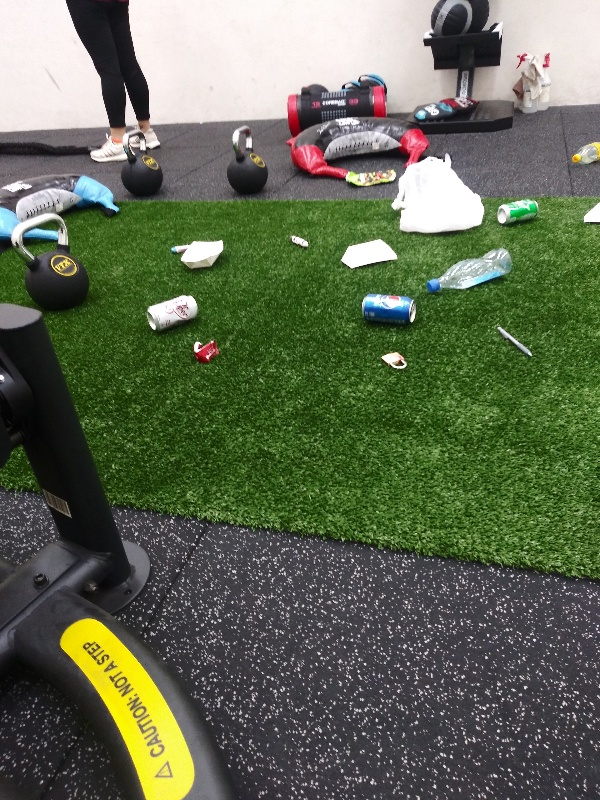bag: (343, 165, 398, 187)
bottle: (422, 244, 515, 299), (572, 137, 600, 166)
can: (356, 291, 421, 330), (142, 292, 200, 334), (492, 197, 541, 228)
plate: (340, 237, 403, 270), (180, 236, 229, 272), (581, 200, 600, 227)
